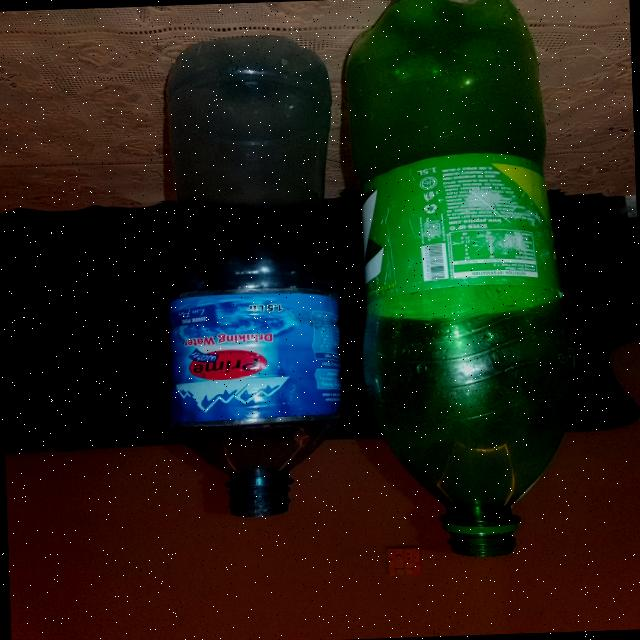bottle: (325, 0, 596, 582), (121, 22, 354, 528)
label: (356, 144, 568, 314), (153, 268, 334, 442)
